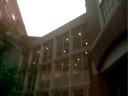window: (97, 21, 104, 47), (98, 57, 107, 77), (60, 65, 66, 79), (68, 64, 72, 79), (53, 66, 58, 78), (48, 66, 52, 77)
